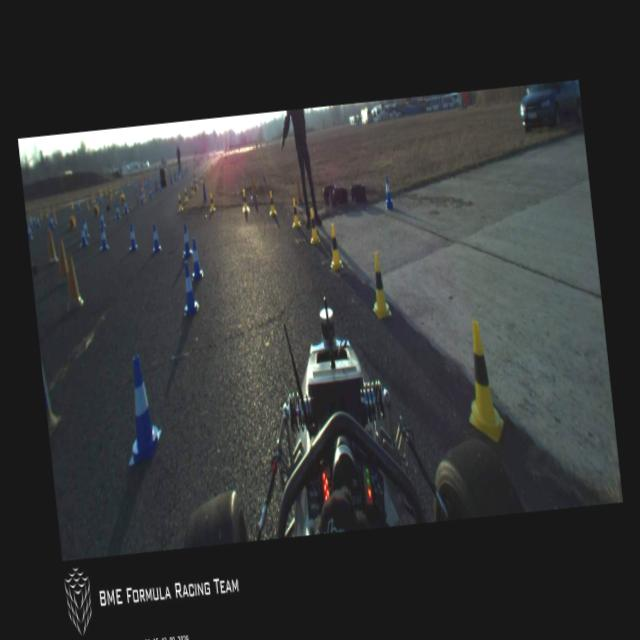blue_cone: (118, 352, 164, 466), (178, 260, 199, 312), (188, 237, 204, 279), (179, 222, 192, 257), (150, 221, 162, 252), (382, 173, 392, 205), (98, 222, 109, 250), (127, 223, 138, 250), (78, 222, 88, 246), (82, 218, 89, 238), (98, 209, 104, 228), (48, 212, 54, 228), (114, 204, 120, 218), (122, 198, 128, 212), (138, 192, 144, 204), (148, 186, 152, 199), (36, 216, 40, 227), (157, 182, 161, 192), (76, 199, 80, 209), (32, 214, 36, 223), (126, 181, 128, 188), (134, 183, 136, 189)
large_orange_cone: (138, 182, 144, 202), (140, 182, 146, 202), (192, 174, 197, 193)
yellow_cone: (460, 318, 506, 444), (366, 250, 392, 319), (326, 222, 344, 269), (306, 206, 320, 242), (290, 197, 300, 227), (266, 190, 276, 214), (240, 188, 248, 212), (208, 192, 215, 211), (177, 193, 183, 210), (183, 188, 188, 202), (194, 176, 198, 190), (198, 173, 203, 184), (190, 182, 193, 195), (44, 208, 48, 216), (92, 192, 95, 202), (70, 200, 73, 209), (115, 185, 118, 193), (110, 186, 112, 197), (204, 169, 206, 178), (205, 167, 208, 173), (210, 163, 212, 170), (114, 186, 116, 193), (208, 166, 210, 172)
